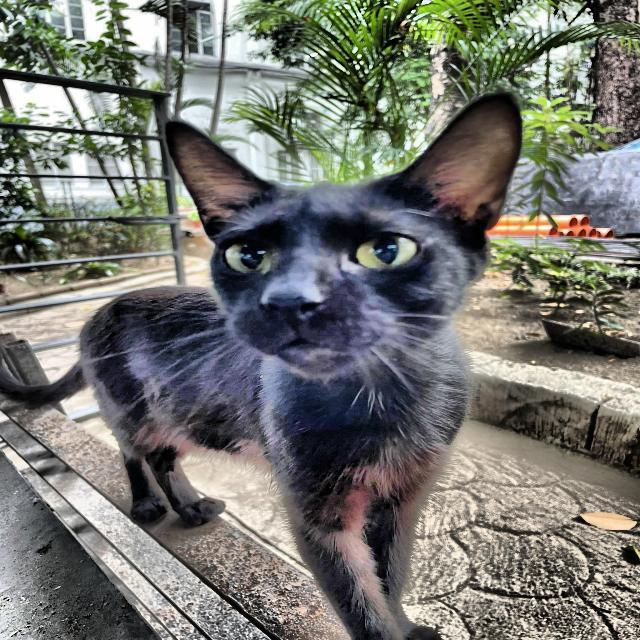Healthy skin: (279, 284, 468, 456), (164, 122, 298, 280)
